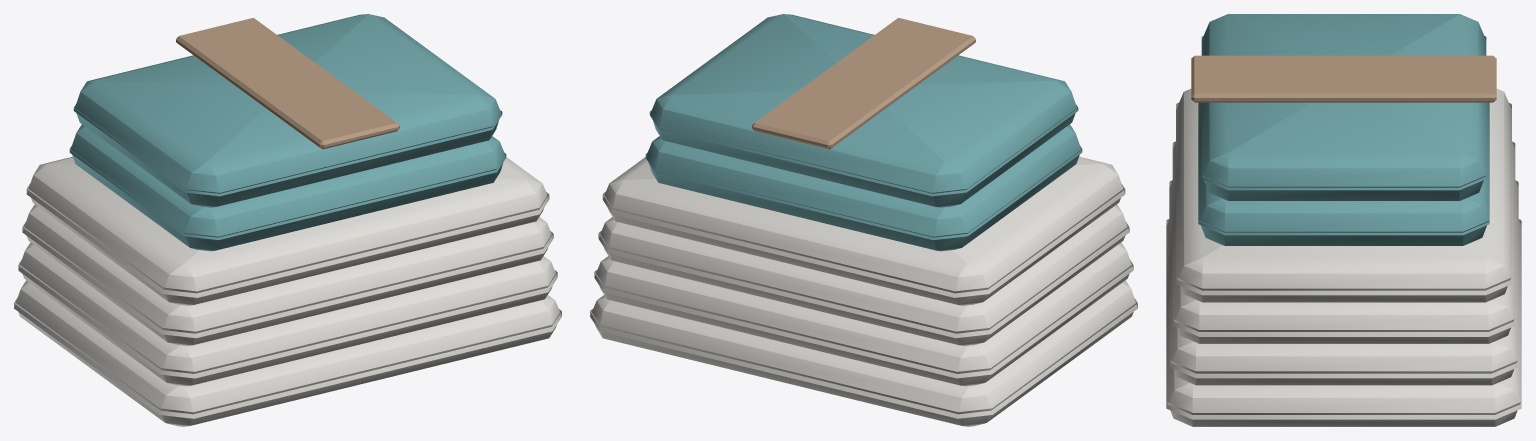
File: folded-towel-stack.glb
3 renders of one model, left to right at view 1: azimuth 30°, elevation 25°; view 2: azimuth 150°, elevation 25°; view 3: azimuth 270°, elevation 25°, orthographic. The views are drawn at different scales.
Visible parts, largest first — view 1: folded-towel-stack; view 2: folded-towel-stack; view 3: folded-towel-stack.
Boxes of the visible parts, x1,y1,x2,y2 form: folded-towel-stack: (14, 14, 561, 426); folded-towel-stack: (590, 14, 1137, 426); folded-towel-stack: (1166, 14, 1521, 426).
Size of the model in its own units: 0.301 by 0.178 by 0.221.
